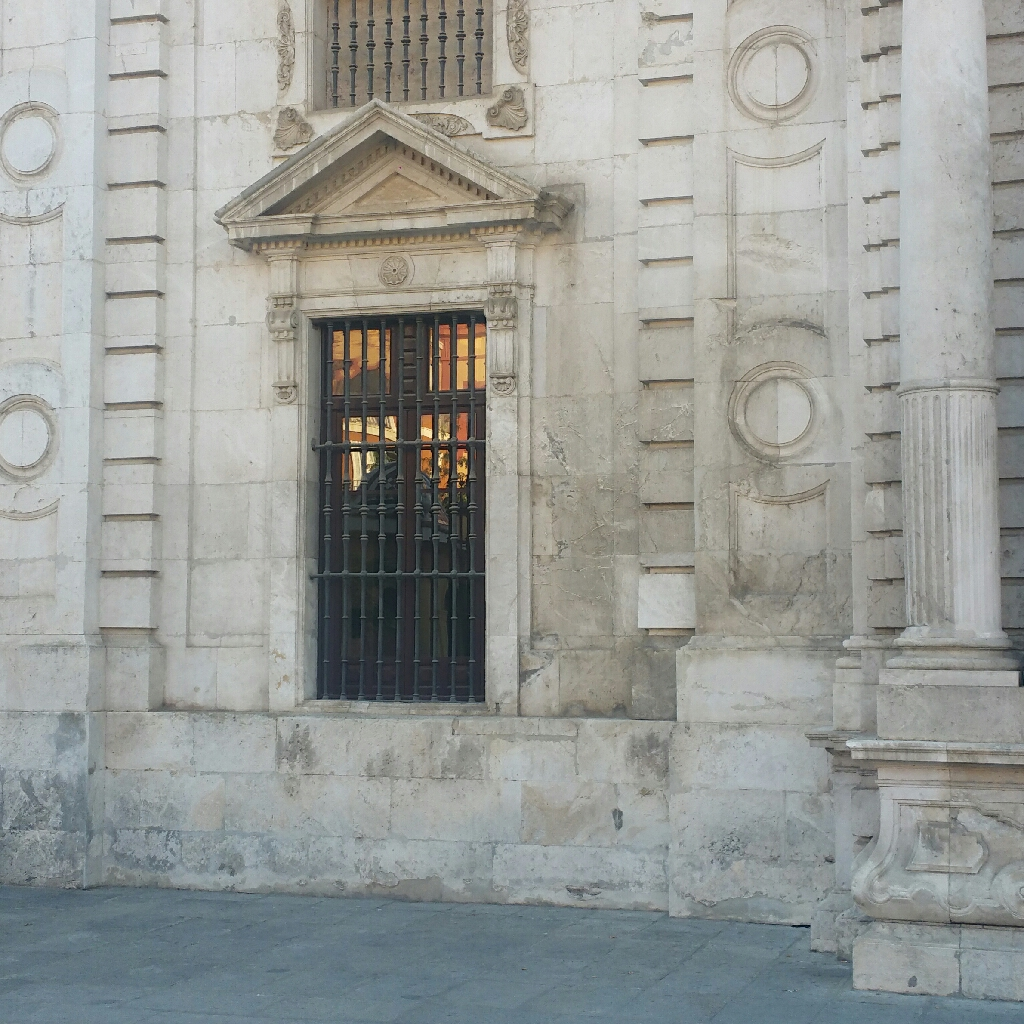fronton: (215, 93, 543, 252)
vano-adintelado: (260, 274, 532, 714)
